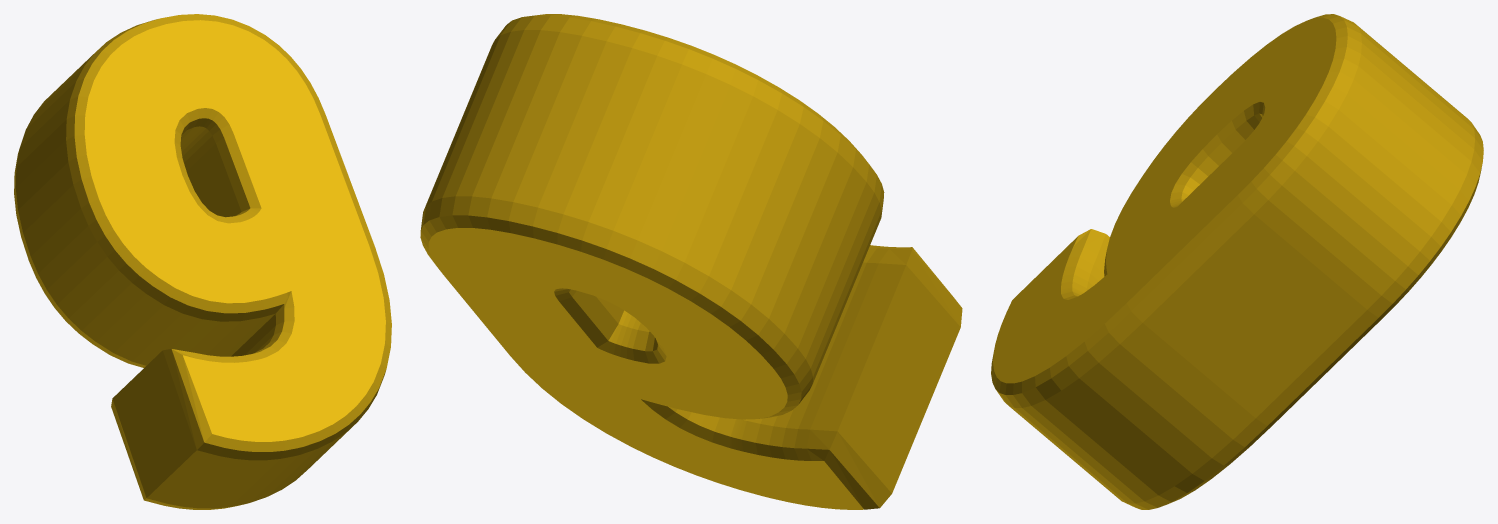
3 renders of one model, left to right at view 1: azimuth 30°, elevation 25°; view 2: azimuth 150°, elevation 25°; view 3: azimuth 270°, elevation 25°, orthographic. The views are drawn at different scales.
Visible parts, largest first — view 1: letter; view 2: letter; view 3: letter.
Part boxes in pixels (box(x1,y1,x2,y2)): letter: box(14, 14, 391, 509); letter: box(420, 14, 962, 509); letter: box(991, 14, 1483, 509).
Bounding box in the file's own units: 0.595 × 0.9226 × 0.892.
